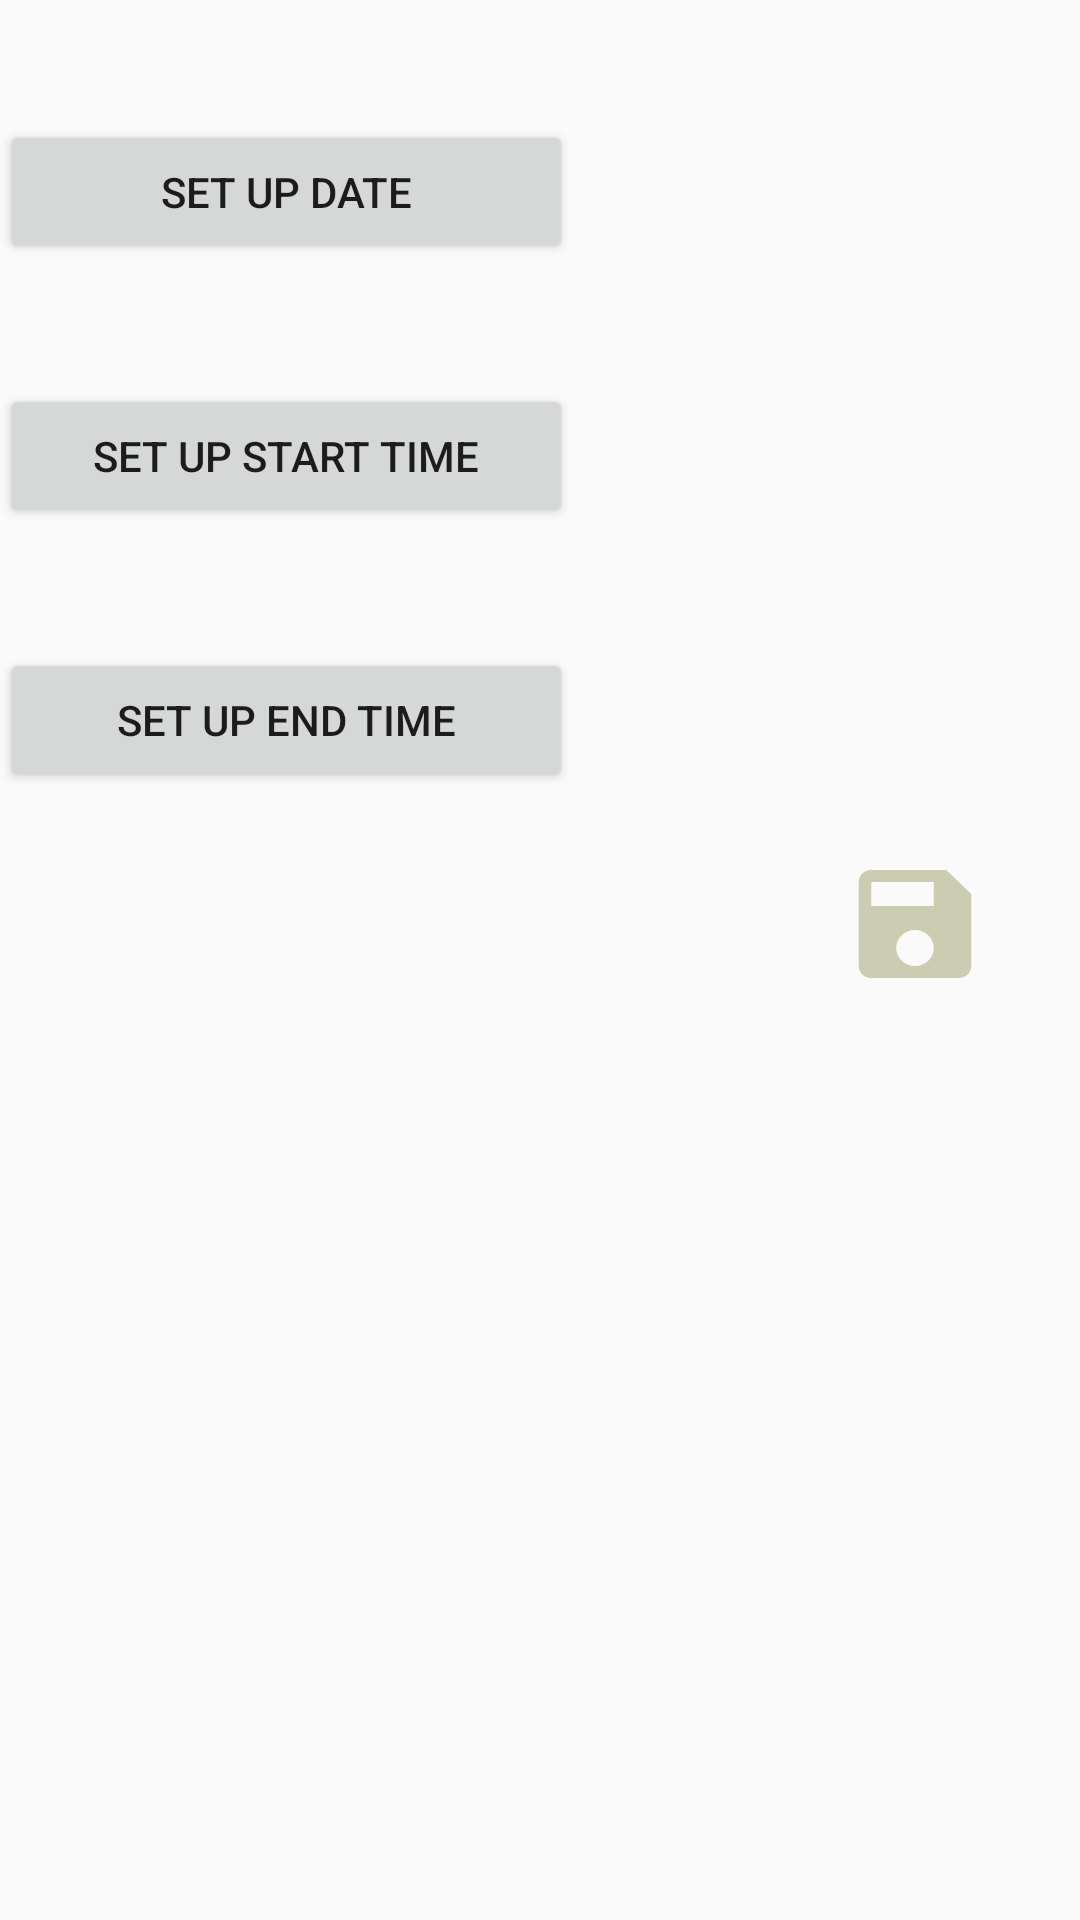

Named icons in this screenshot (1080x1920) and their bounding boxes, (x1, y1, x2, y2):
save: (859, 870, 971, 978)
